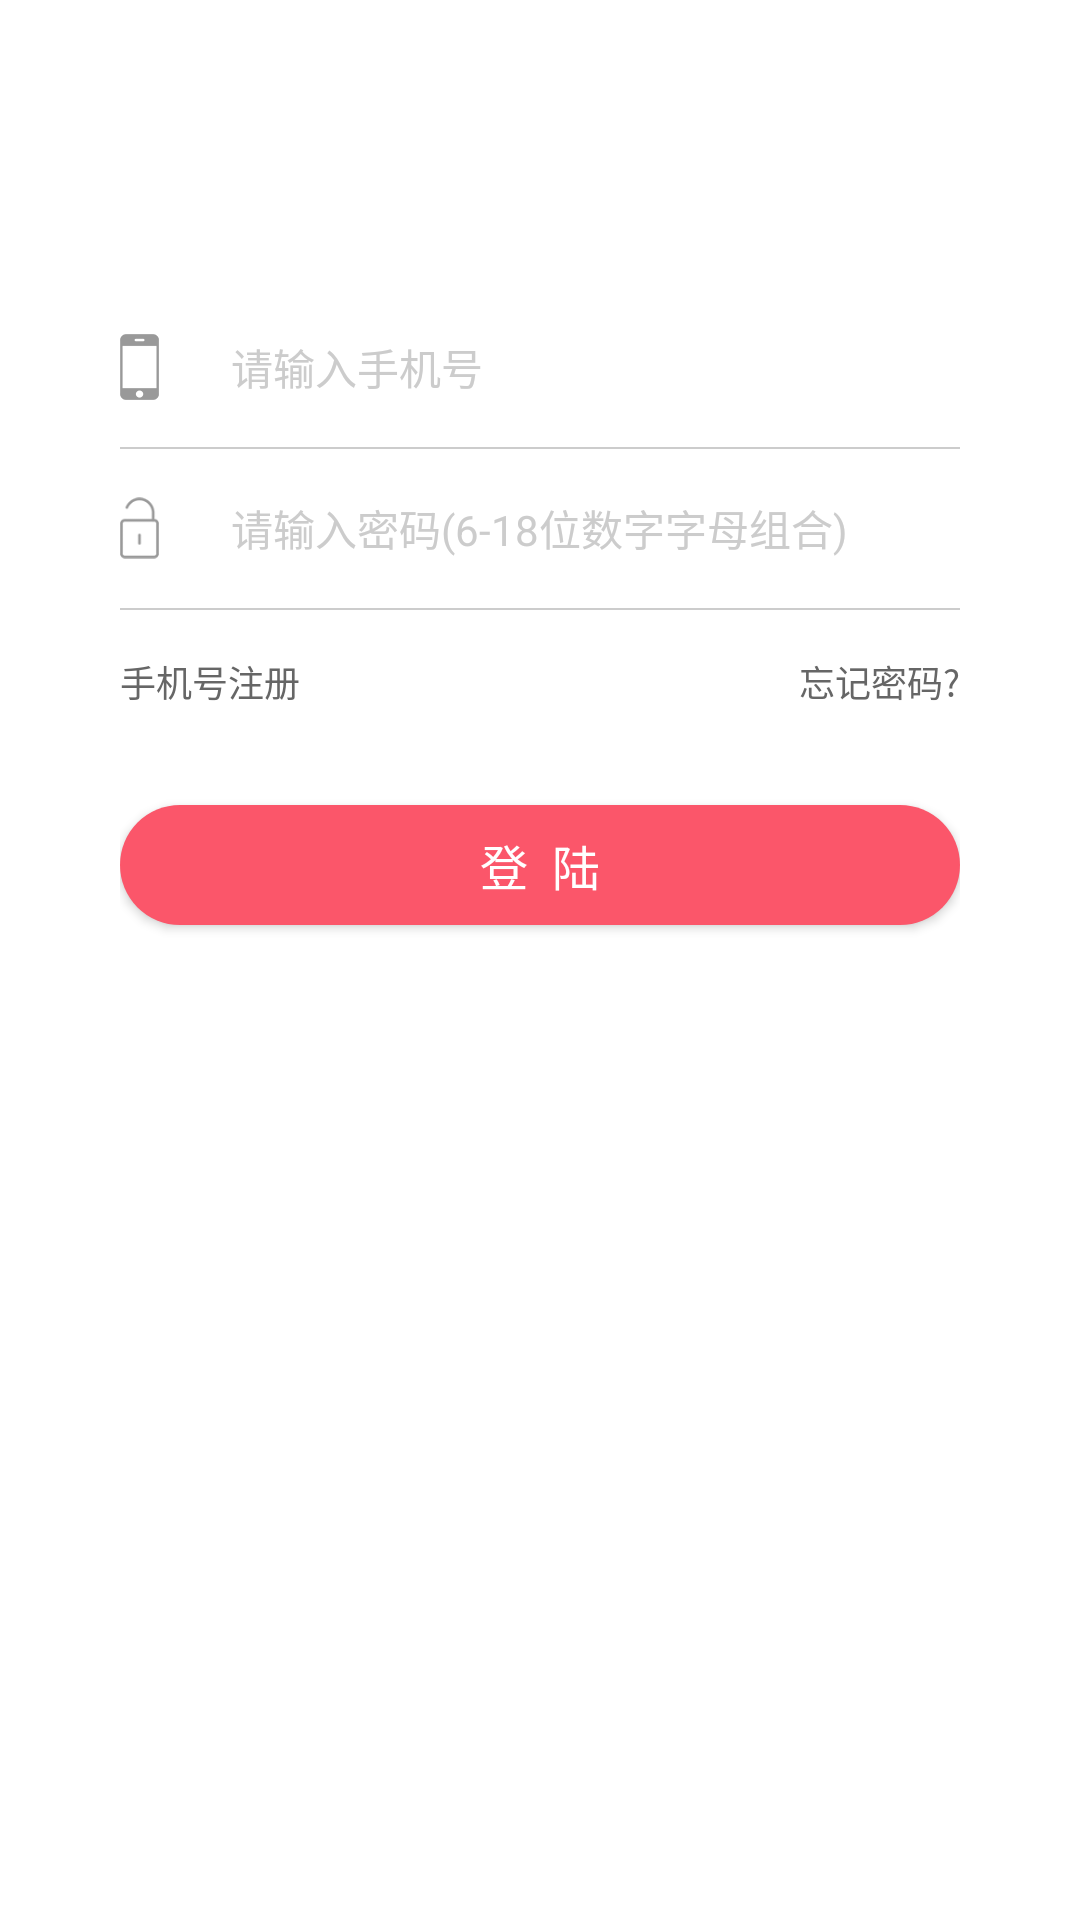

Locate icon controls on the screen. Image size 1080 x 1920, boxes as [x1, y1, x2, y2].
login password: [120, 497, 159, 559]
login phone: [120, 334, 159, 400]
